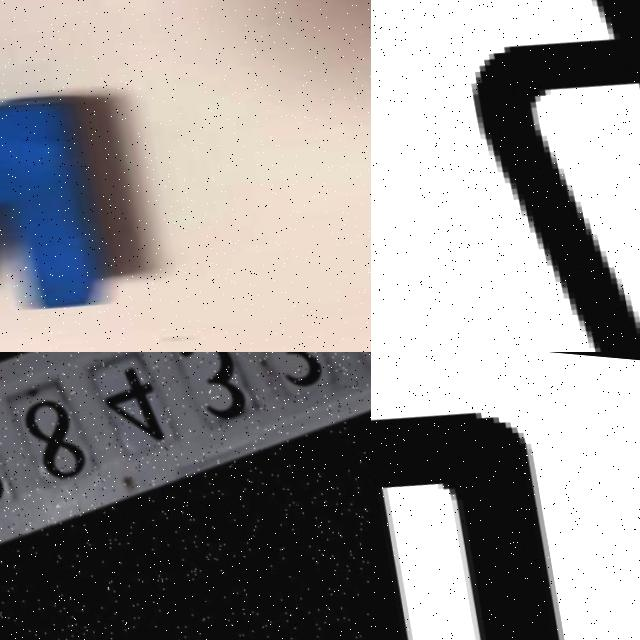3: (163, 352, 258, 435), (243, 352, 335, 403)
4: (83, 352, 177, 463)
8: (0, 377, 95, 500)
B: (371, 403, 560, 640)
G: (371, 0, 640, 352)
N: (0, 74, 113, 337)
